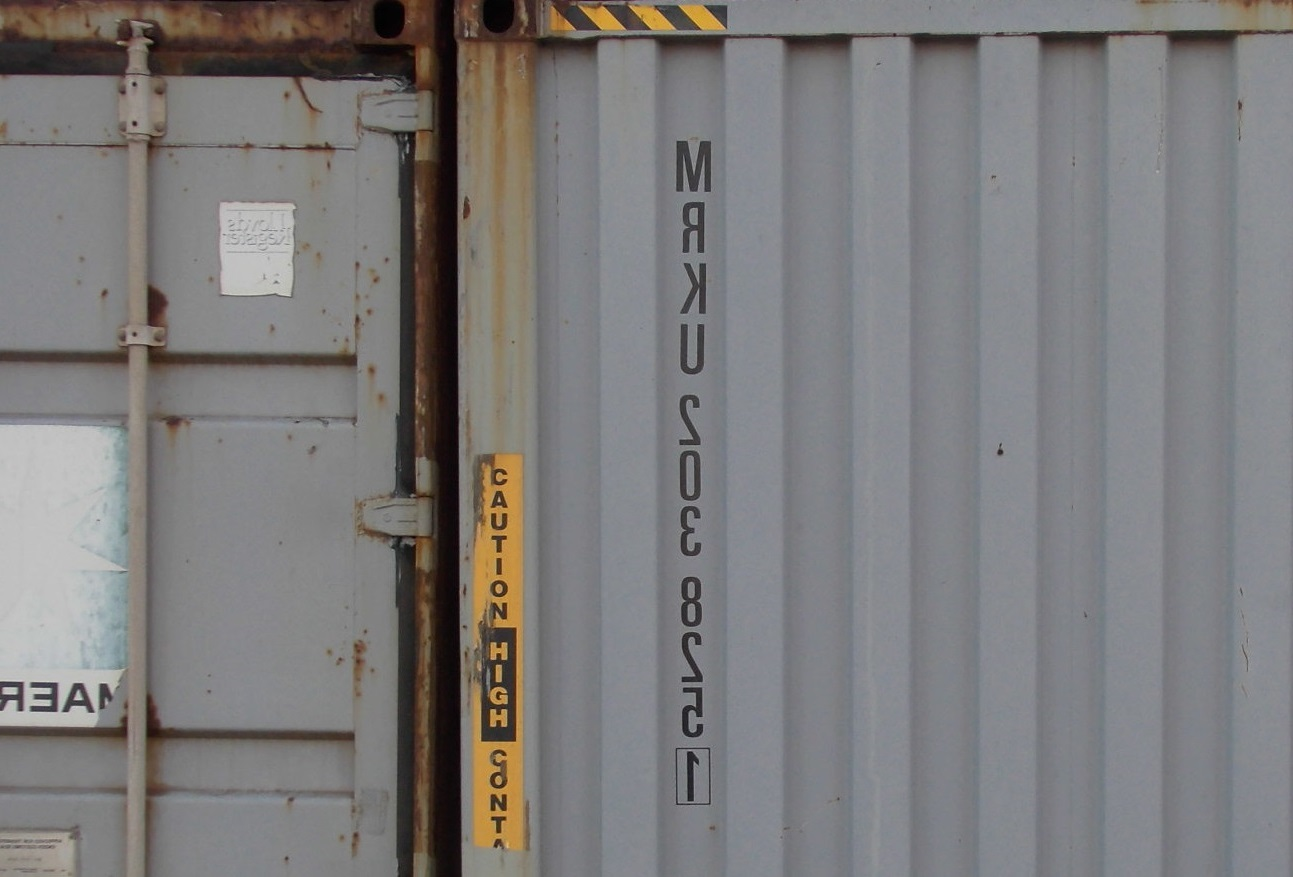container_no_door: (447, 5, 1289, 877)
